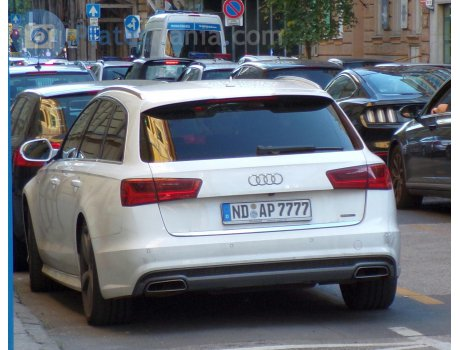License Plates: (231, 206, 309, 217)
